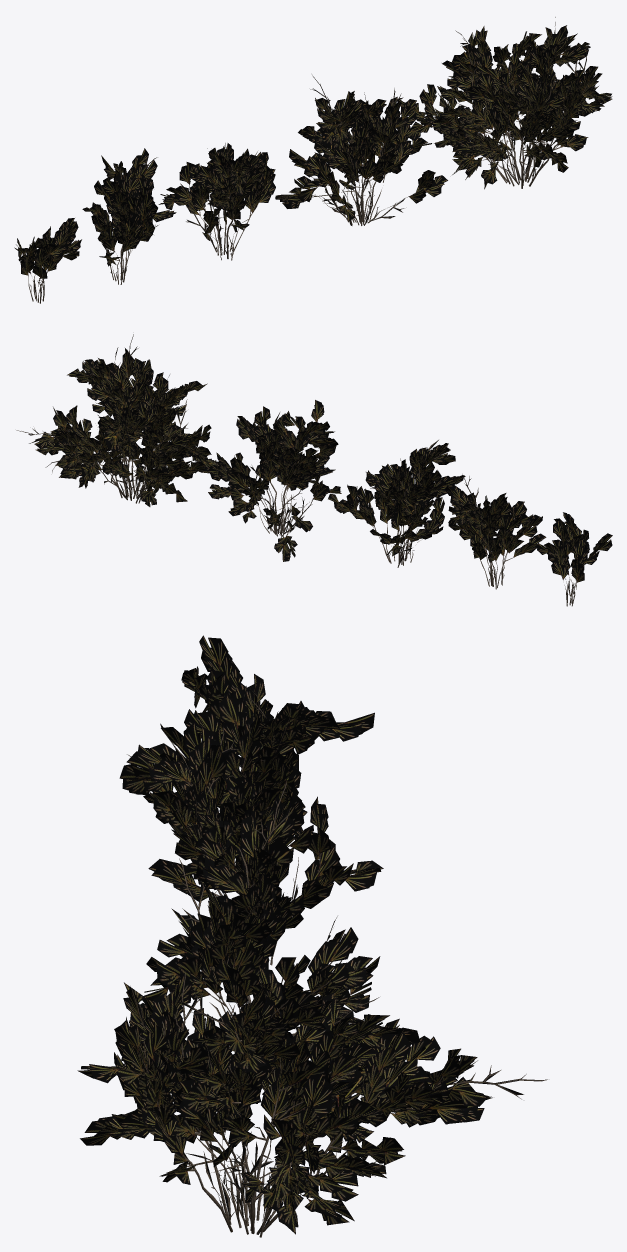
Rendered from wild_rooibos_bush.glb.
3 views of the same model, one above another, from view 1: azimuth 30°, elevation 25°; view 2: azimuth 150°, elevation 25°; view 3: azimuth 270°, elevation 25° (orthographic). The views are drawn at different scales.
Parts seen in each view (by area): view 1: wild_rooibos_bush_a, wild_rooibos_bush_b, wild_rooibos_bush_c, wild_rooibos_bush_d, wild_rooibos_bush_e; view 2: wild_rooibos_bush_a, wild_rooibos_bush_b, wild_rooibos_bush_c, wild_rooibos_bush_d, wild_rooibos_bush_e; view 3: wild_rooibos_bush_a, wild_rooibos_bush_b, wild_rooibos_bush_c, wild_rooibos_bush_d, wild_rooibos_bush_e.
Part boxes in pixels (x1=…): wild_rooibos_bush_a: x1=397, y1=17, x2=612, y2=189; wild_rooibos_bush_b: x1=275, y1=75, x2=447, y2=225; wild_rooibos_bush_c: x1=158, y1=143, x2=275, y2=260; wild_rooibos_bush_d: x1=82, y1=148, x2=176, y2=284; wild_rooibos_bush_e: x1=14, y1=218, x2=81, y2=303; wild_rooibos_bush_a: x1=16, y1=334, x2=218, y2=506; wild_rooibos_bush_b: x1=201, y1=400, x2=341, y2=561; wild_rooibos_bush_c: x1=328, y1=440, x2=465, y2=567; wild_rooibos_bush_d: x1=445, y1=474, x2=546, y2=589; wild_rooibos_bush_e: x1=537, y1=512, x2=612, y2=606; wild_rooibos_bush_a: x1=77, y1=964, x2=547, y2=1237; wild_rooibos_bush_b: x1=129, y1=780, x2=380, y2=1089; wild_rooibos_bush_c: x1=119, y1=722, x2=383, y2=965; wild_rooibos_bush_d: x1=160, y1=674, x2=374, y2=865; wild_rooibos_bush_e: x1=181, y1=635, x2=272, y2=755.
Bounding box in the file's own units: 2.27 × 0.541 × 0.8432.
3 materials, 3 textured.
